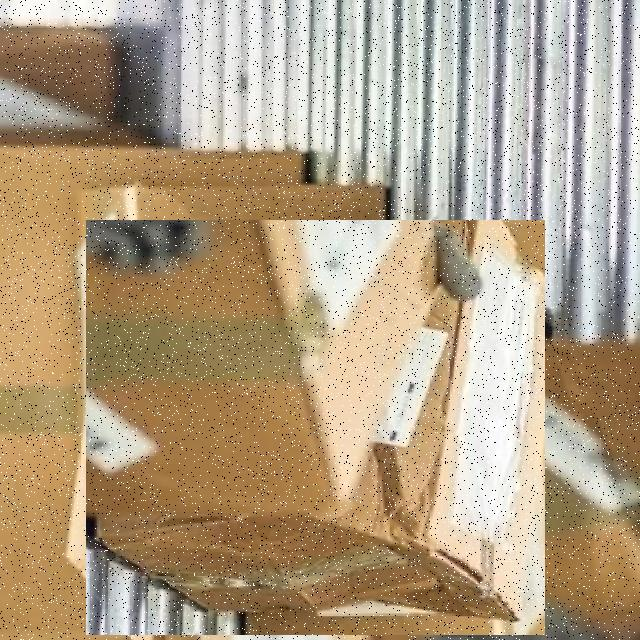normal: (86, 220, 545, 635)
